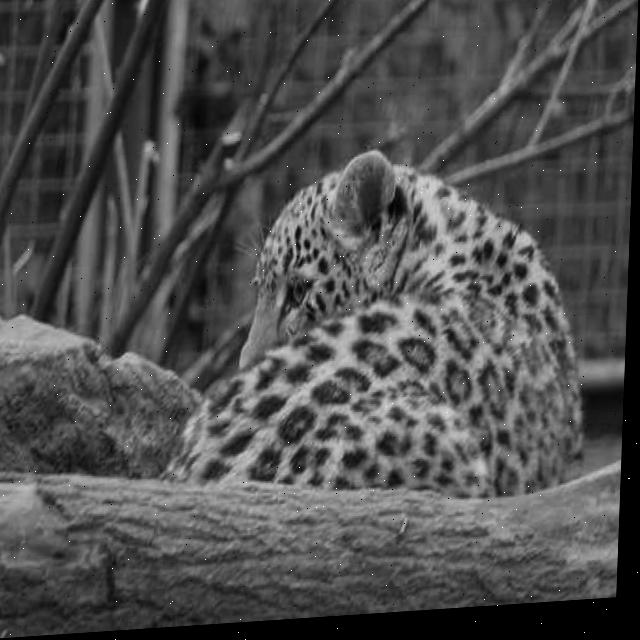Leopard: (141, 84, 544, 509)
